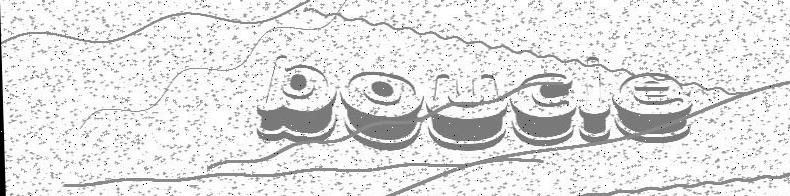b: (254, 50, 339, 147)
c: (508, 70, 582, 146)
e: (612, 70, 699, 147)
i: (573, 54, 614, 144)
o: (338, 64, 428, 142)
u: (423, 63, 507, 151)
